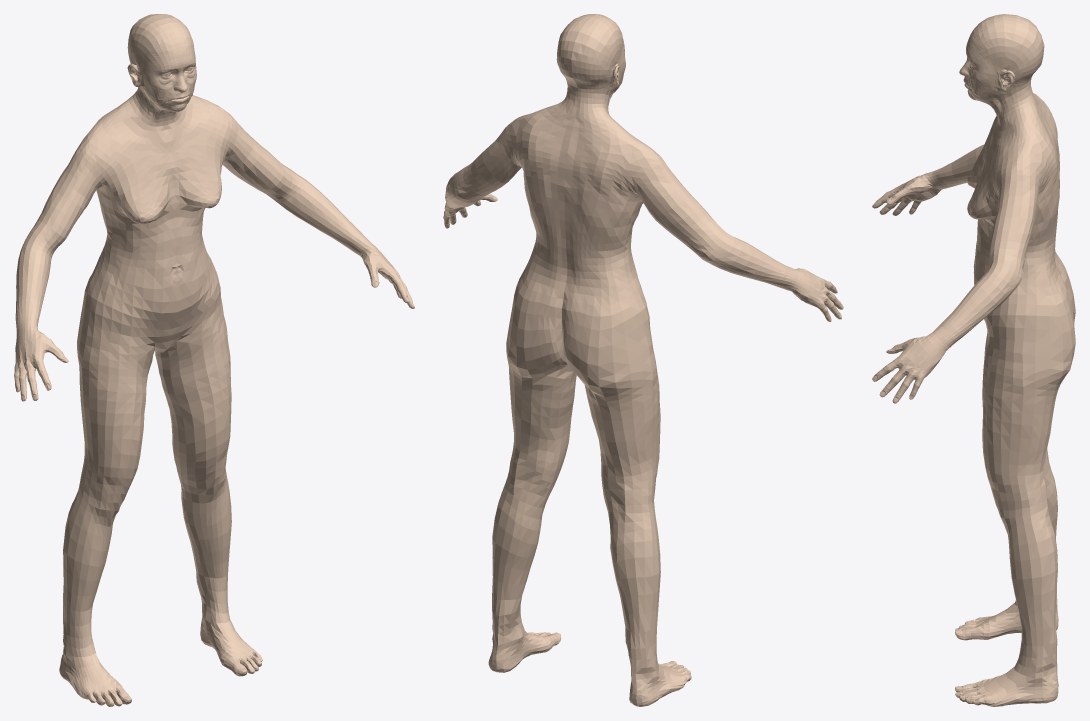
File: female-elder-heavy-strong.glb
3 renders of one model, left to right at view 1: azimuth 30°, elevation 25°; view 2: azimuth 150°, elevation 25°; view 3: azimuth 270°, elevation 25°, orthographic.
Parts seen in each view (by area): view 1: world; view 2: world; view 3: world.
Boxes of the visible parts, left/top/right/bottom form: world: left=14, top=14, right=414, bottom=706; world: left=443, top=14, right=843, bottom=706; world: left=872, top=14, right=1075, bottom=706.
Size of the model in its own units: 1.14 by 1.83 by 0.5203.
